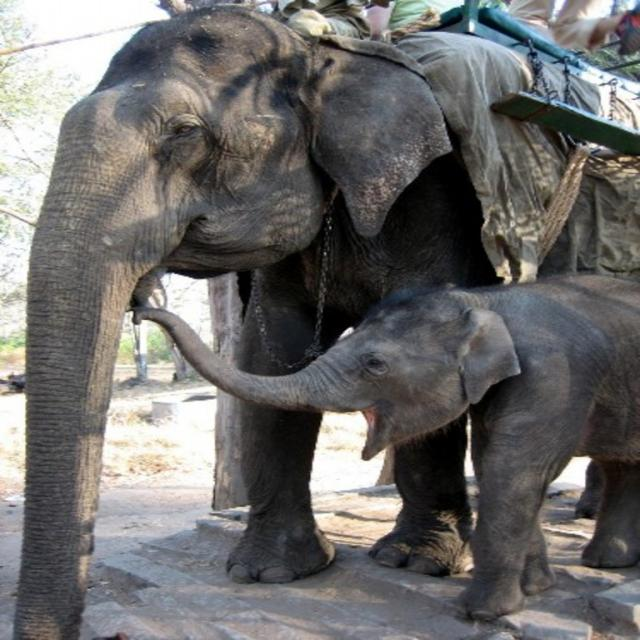elephant: (20, 1, 638, 638), (116, 269, 634, 635)
